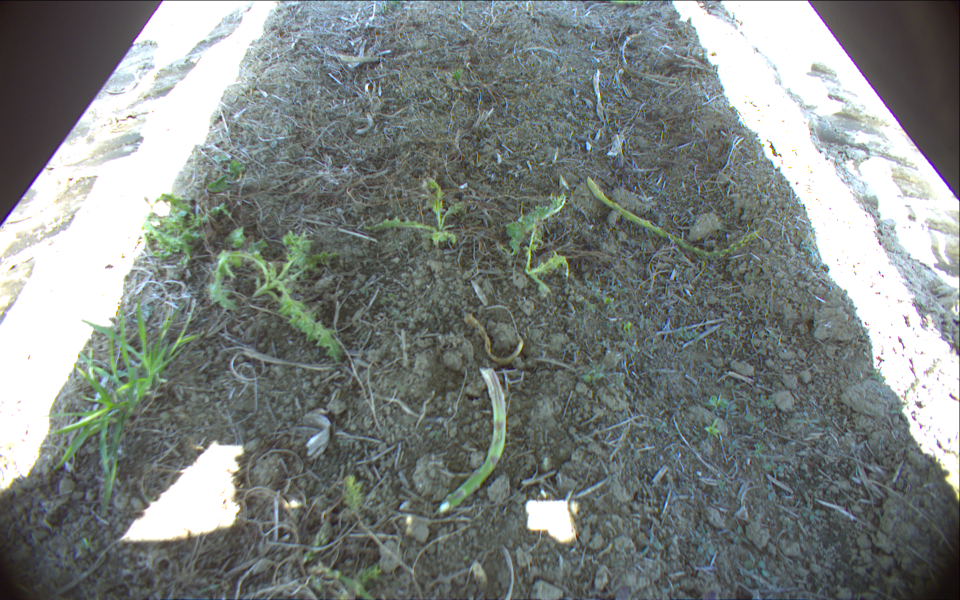aspa: (586, 177, 760, 256), (433, 368, 508, 517)
